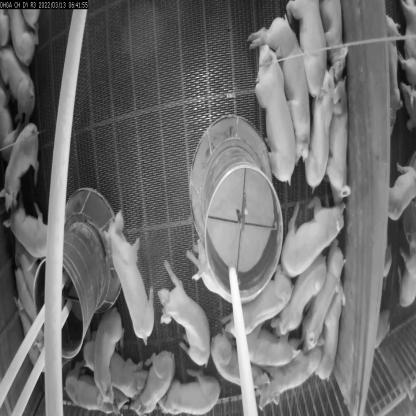Pig: (253, 10, 314, 160), (153, 258, 221, 374), (249, 38, 296, 186), (285, 238, 341, 360), (282, 206, 350, 278), (0, 113, 53, 205), (81, 324, 149, 394), (304, 74, 342, 190), (212, 326, 268, 403), (272, 251, 328, 326), (251, 352, 319, 413), (222, 268, 290, 328), (124, 344, 179, 415), (289, 0, 329, 93), (90, 290, 118, 409), (314, 284, 346, 387), (154, 368, 223, 415), (224, 329, 304, 368), (9, 209, 68, 256), (333, 76, 354, 198), (58, 365, 115, 407), (2, 37, 30, 110), (10, 251, 42, 310), (323, 0, 344, 67)
